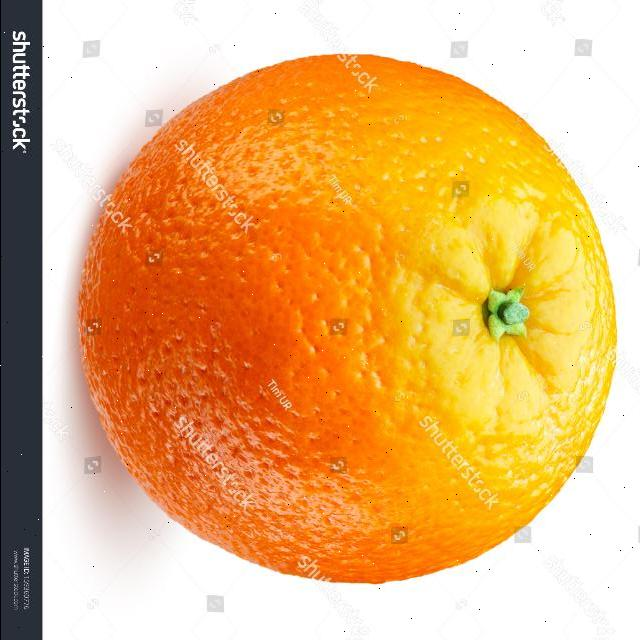Orange: (76, 51, 618, 585)
